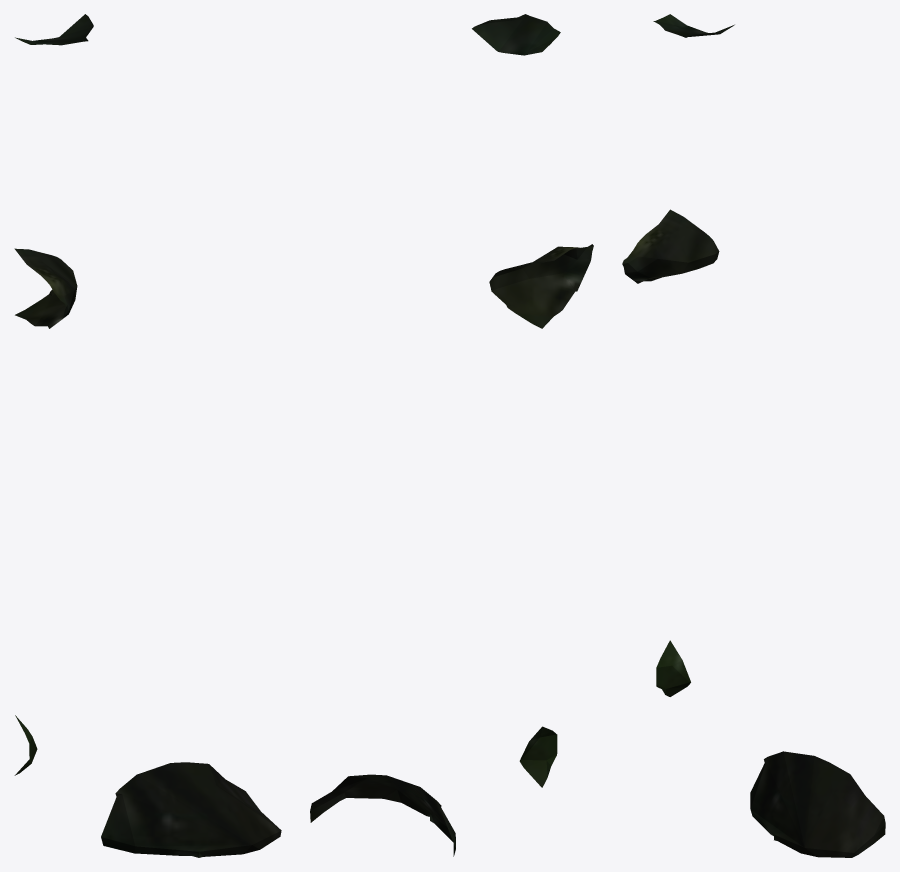
The picture shows the model from 3 angles, left to right: view 1: azimuth 30°, elevation 25°; view 2: azimuth 150°, elevation 25°; view 3: azimuth 330°, elevation 25°; orthographic projection. The views are drawn at different scales.
Size of the model in its own units: 0.4893 by 1.67 by 0.1882.
Materials: 1 (1 with a texture image).
